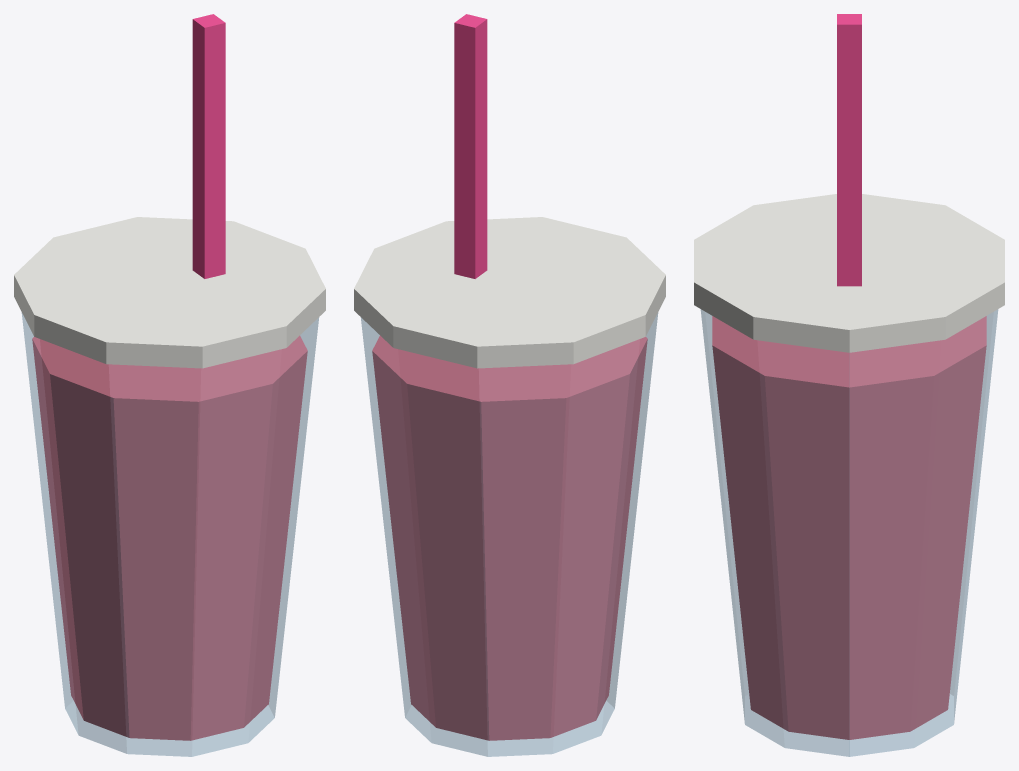
Rendered from smoothie_cup.obj.
3 views of the same model, side by side, from view 1: azimuth 30°, elevation 25°; view 2: azimuth 150°, elevation 25°; view 3: azimuth 270°, elevation 25° (orthographic). The views are drawn at different scales.
Visible parts, largest first — view 1: smoothie_cup; view 2: smoothie_cup; view 3: smoothie_cup.
Boxes of the visible parts, x1,y1,x2,y2 form: smoothie_cup: [14, 14, 325, 756]; smoothie_cup: [354, 14, 665, 756]; smoothie_cup: [694, 14, 1004, 756].
Bounding box in the file's own units: 0.104 × 0.25 × 0.099.
